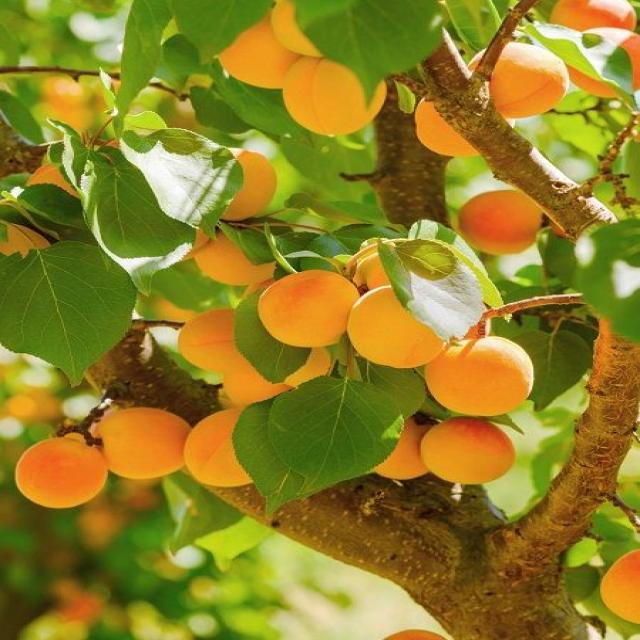Kayisi: (282, 53, 384, 135), (425, 338, 532, 415), (259, 270, 358, 348), (348, 285, 441, 368), (90, 407, 191, 479), (16, 434, 107, 508), (273, 0, 307, 48)
Yaprak: (233, 375, 407, 509), (0, 240, 135, 382), (91, 150, 193, 257)
